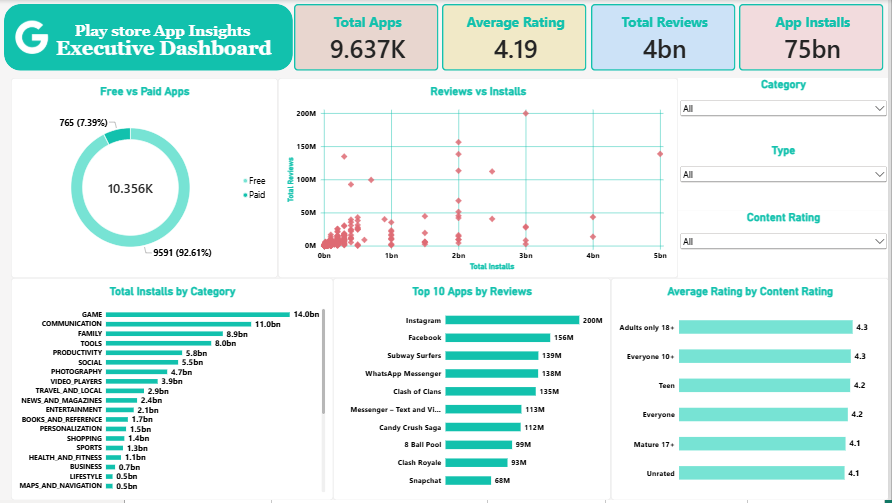

The dashboard page shown, as its layout file describes it:
{"tool":"powerbi","page":{"name":"Executive Overview Dashboard","canvas":[1920,1080],"ordinal":0},"visuals":[{"type":"shape","box":[8,8,624,144],"z":0,"group":"g1"},{"type":"clusteredBarChart","title":"Total Installs by Category","fields":{"Category":["googleplaystore.Category"],"Y":["Sum(googleplaystore.Installs_Num)"]},"box":[24,600,696,480],"z":0},{"type":"cardVisual","fields":{"Data":["Measure.Total Apps"]},"box":[635.6,9.6,312,144],"z":1000},{"type":"textbox","box":[152,48,416,48],"z":1000,"group":"g1"},{"type":"cardVisual","fields":{"Data":["Measure.Average Rating"]},"box":[955.6,9.6,312,144],"z":2000},{"type":"cardVisual","fields":{"Data":["Sum(googleplaystore.Reviews)"]},"box":[1275.6,9.6,312,144],"z":3000},{"type":"image","box":[32,32,72,96],"z":3000,"group":"g1"},{"type":"cardVisual","fields":{"Data":["Measure.App Installs"]},"box":[1595.6,9.6,312,144],"z":4000},{"type":"textbox","box":[120,80,480,57.6],"z":4000,"group":"g1"},{"type":"group","id":"g1","title":"Group 1","box":[8,8,624,144],"z":5000},{"type":"donutChart","title":"Free vs Paid Apps","fields":{"Category":["googleplaystore.Type"],"Y":["CountNonNull(googleplaystore.App)"]},"box":[24,168,576,432],"z":6000},{"type":"clusteredBarChart","title":"Average Rating by Content Rating","fields":{"Category":["googleplaystore.Content Rating"],"Y":["Avg(googleplaystore.Rating)"]},"box":[1320,600,600,480],"z":7000},{"type":"clusteredBarChart","title":"Top 10 Apps by Reviews","fields":{"Category":["googleplaystore.App"],"Y":["Sum(googleplaystore.Reviews)"]},"box":[720,600,600,480],"z":8000},{"type":"scatterChart","title":"Reviews vs Installs","fields":{"Category":["googleplaystore.App"],"X":["Sum(googleplaystore.Installs_Num)"],"Y":["Sum(googleplaystore.Reviews)"]},"box":[600,168,864,432],"z":9000},{"type":"slicer","title":"Category","fields":{"Values":["googleplaystore.Category"]},"box":[1464,168,456,144],"z":10000},{"type":"slicer","title":"Type","fields":{"Values":["googleplaystore.Type"]},"box":[1464,312,456,144],"z":11000},{"type":"slicer","title":"Content Rating","fields":{"Values":["googleplaystore.Content Rating"]},"box":[1464,456,456,144],"z":12000}]}

Visuals, with their boxes in screenshot pixels (x1, y1, x2, y2), scaled from the page's 1920x1080 canvas onto the 892x503 screenshot:
shape: x1=4 y1=4 x2=294 y2=71
"Total Installs by Category" clusteredBarChart: x1=11 y1=279 x2=334 y2=502
cardVisual - Measure.Total Apps: x1=295 y1=4 x2=440 y2=72
textbox: x1=71 y1=22 x2=264 y2=45
cardVisual - Measure.Average Rating: x1=444 y1=4 x2=589 y2=72
cardVisual - Sum(googleplaystore.Reviews): x1=593 y1=4 x2=738 y2=72
image: x1=15 y1=15 x2=48 y2=60
cardVisual - Measure.App Installs: x1=741 y1=4 x2=886 y2=72
textbox: x1=56 y1=37 x2=279 y2=64
"Group 1" group: x1=4 y1=4 x2=294 y2=71
"Free vs Paid Apps" donutChart: x1=11 y1=78 x2=279 y2=279
"Average Rating by Content Rating" clusteredBarChart: x1=613 y1=279 x2=891 y2=502
"Top 10 Apps by Reviews" clusteredBarChart: x1=334 y1=279 x2=613 y2=502
"Reviews vs Installs" scatterChart: x1=279 y1=78 x2=680 y2=279
"Category" slicer: x1=680 y1=78 x2=891 y2=145
"Type" slicer: x1=680 y1=145 x2=891 y2=212
"Content Rating" slicer: x1=680 y1=212 x2=891 y2=279
